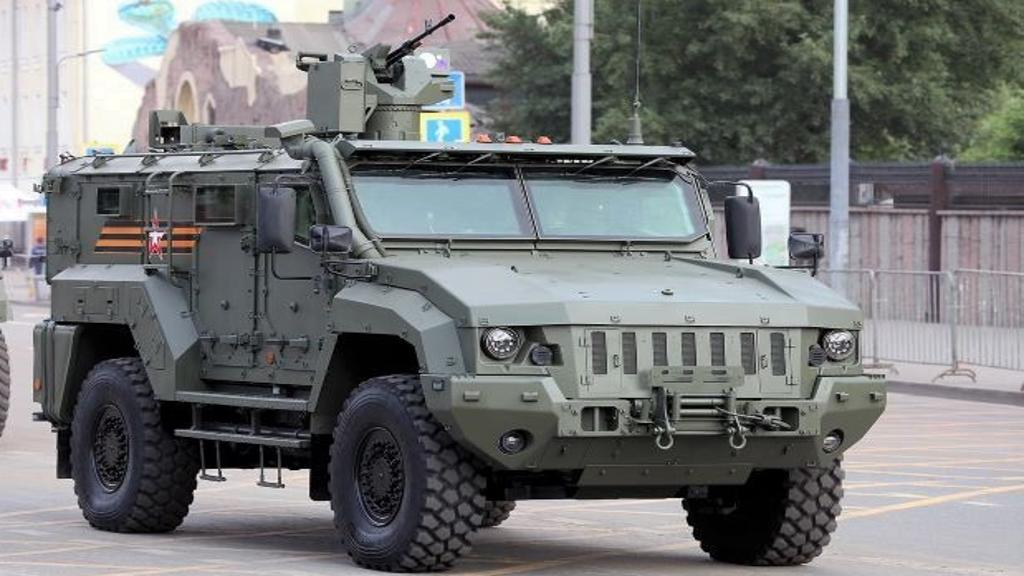CAR: (31, 34, 887, 574)
